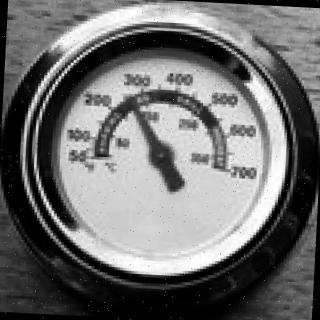gauge: (11, 3, 320, 310), (79, 142, 120, 176), (200, 154, 237, 186), (144, 140, 178, 171), (123, 92, 139, 106)
